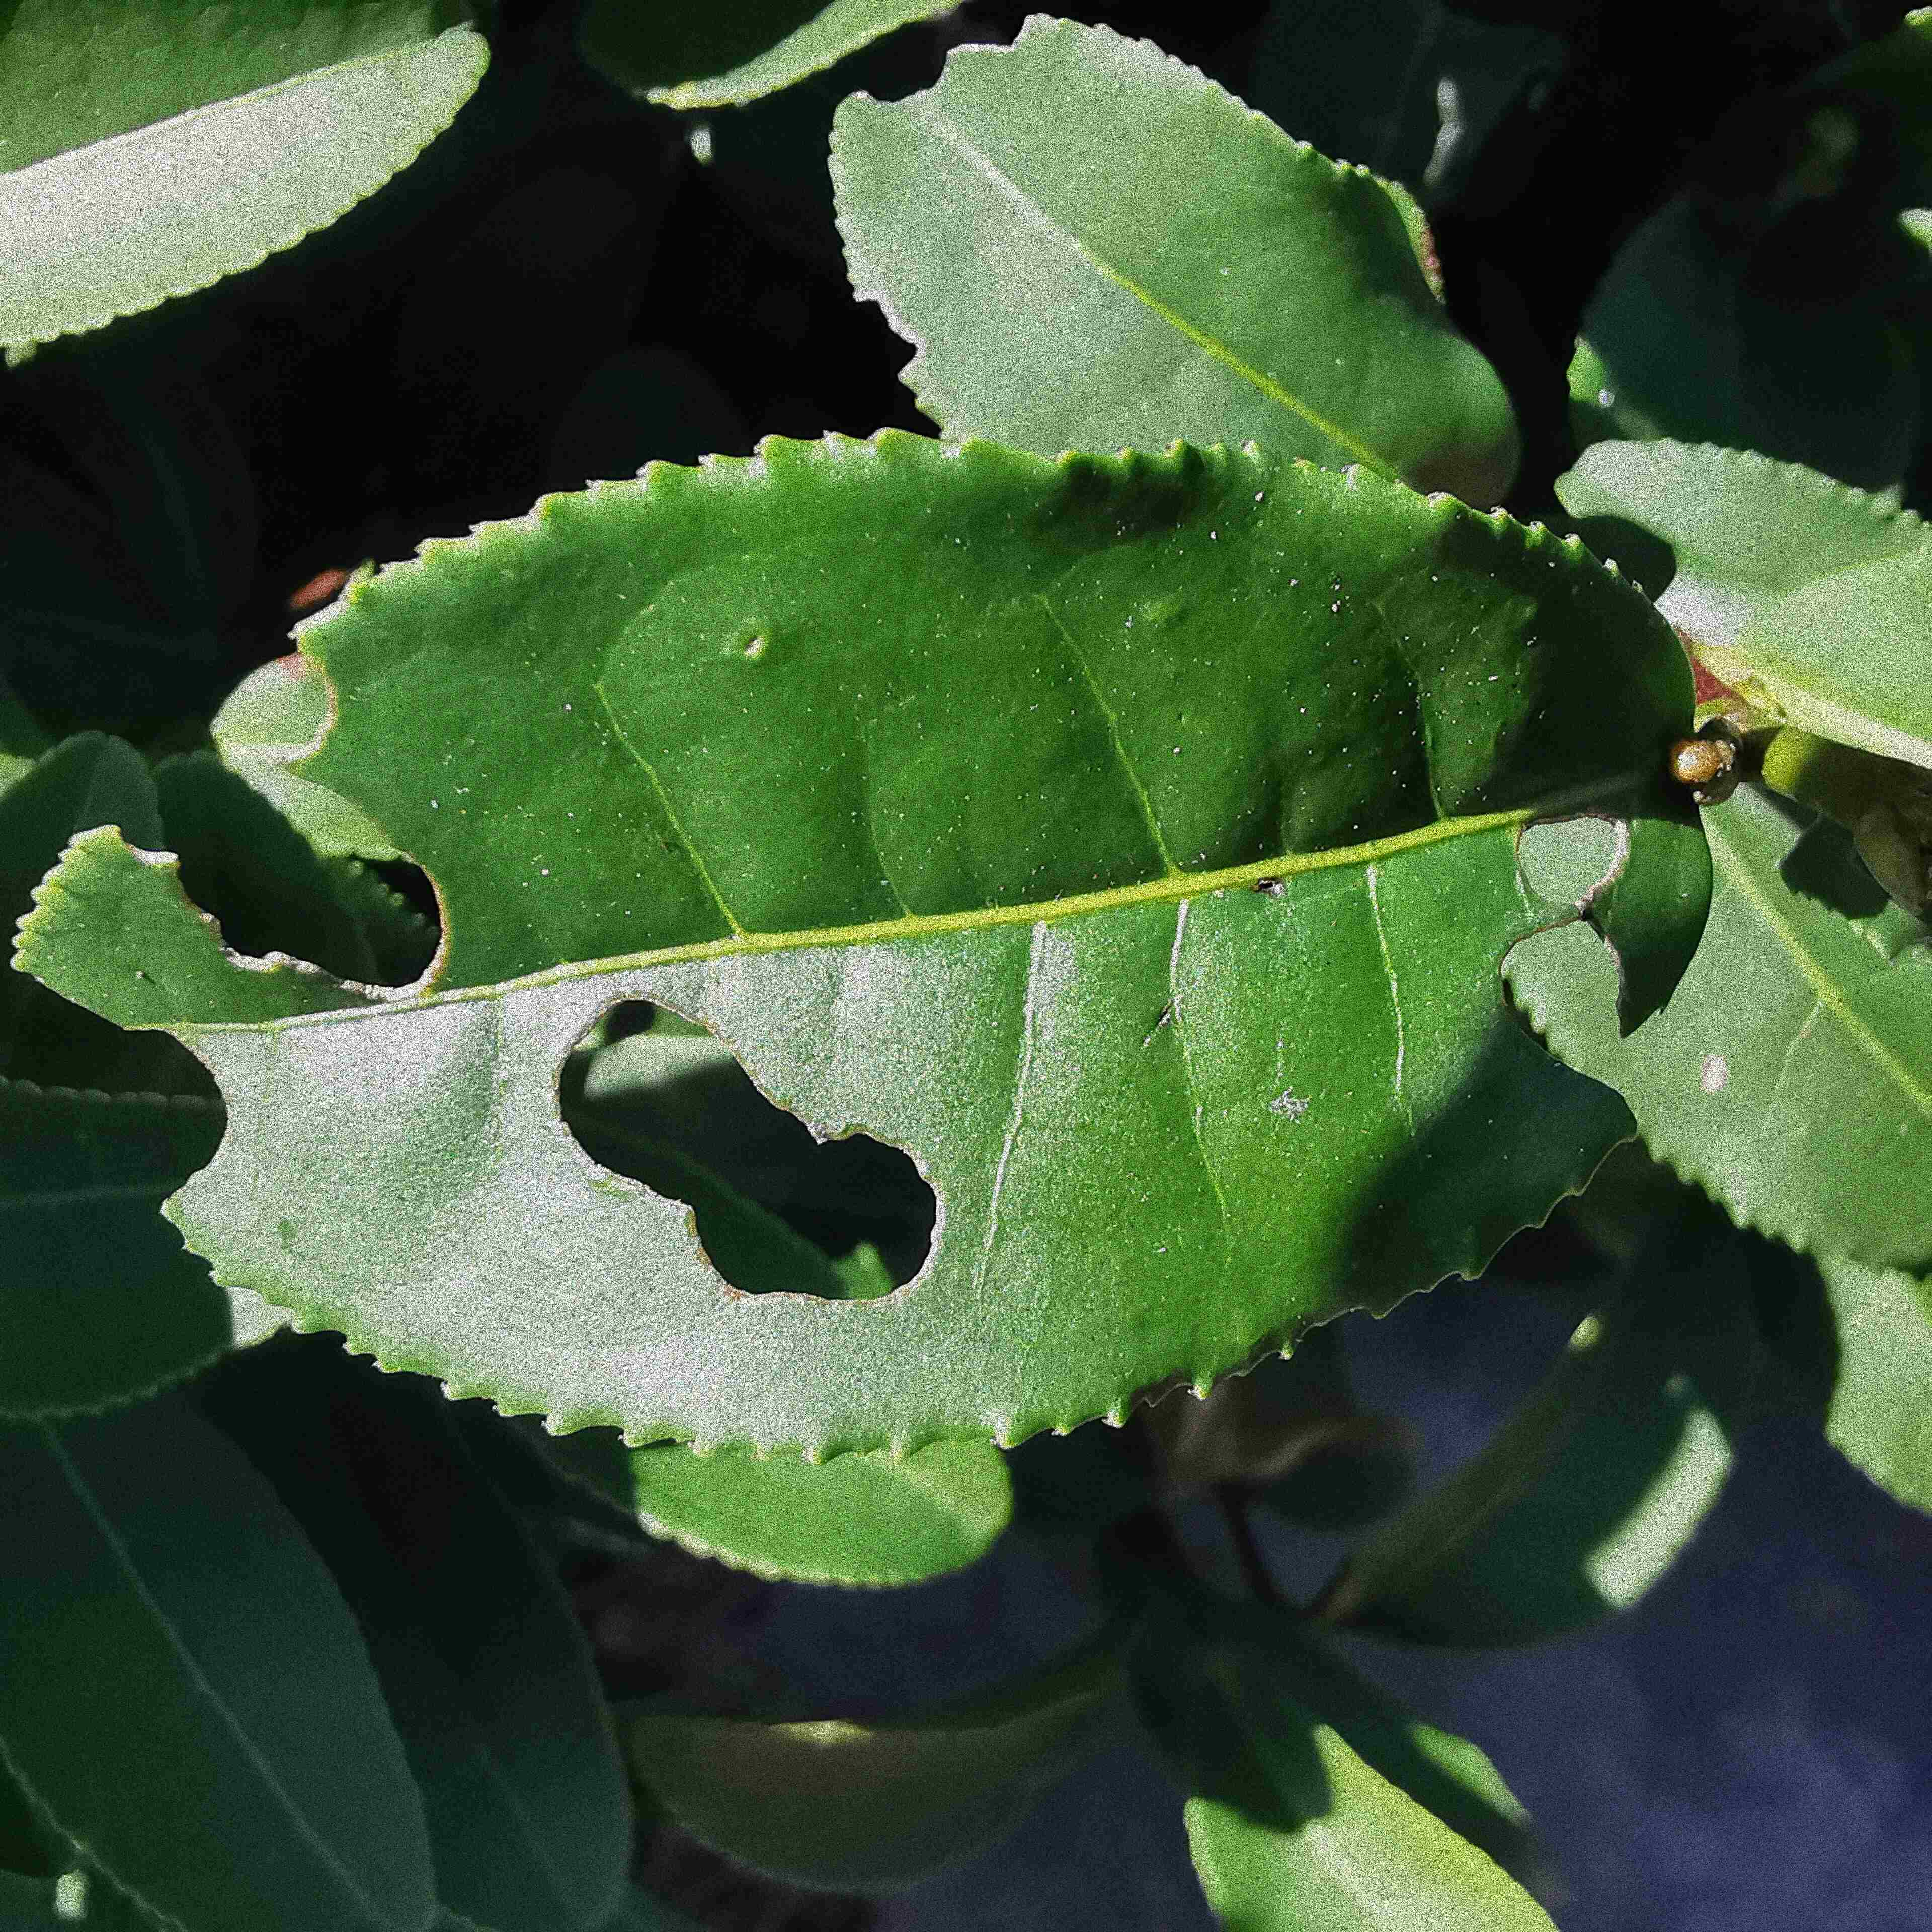chihuo_high: (11, 425, 1714, 1467), (828, 12, 1562, 448)
healthy: (9, 1396, 439, 1928), (4, 16, 495, 350)
